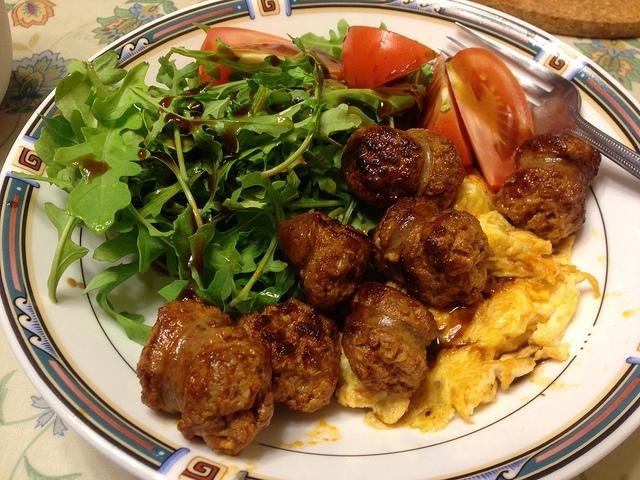lettuce: (90, 59, 296, 168), (54, 104, 150, 236), (104, 202, 188, 280), (187, 224, 242, 322), (251, 34, 324, 106), (148, 145, 204, 229), (208, 204, 274, 264), (55, 71, 98, 127), (67, 50, 128, 86), (250, 79, 276, 114), (299, 108, 313, 118), (134, 103, 146, 114)
tomato: (444, 47, 534, 192), (199, 27, 343, 87), (417, 52, 473, 166), (340, 26, 440, 89)
